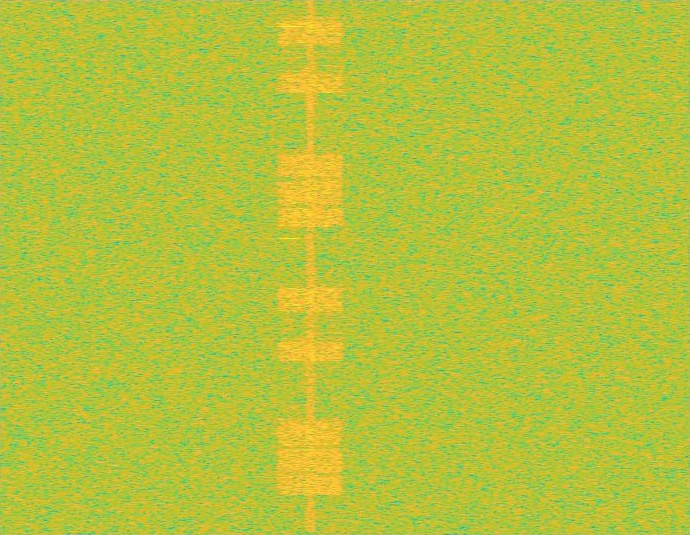DSSS: (306, 0, 315, 534)
LTE: (276, 0, 345, 534)
Radar: (283, 0, 296, 534)
